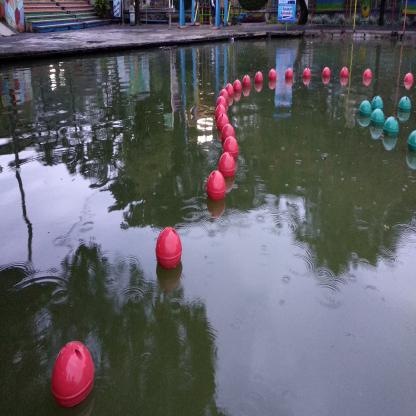green_buoy: (370, 103, 384, 136), (385, 116, 399, 140), (397, 95, 412, 117), (358, 101, 370, 124), (408, 126, 416, 156), (372, 96, 384, 110)
red_buoy: (51, 342, 95, 406), (156, 227, 182, 269), (206, 170, 225, 199), (219, 149, 234, 181), (224, 135, 238, 162), (223, 125, 234, 145), (217, 114, 228, 133), (216, 104, 226, 120), (217, 96, 227, 110), (220, 89, 229, 104), (404, 72, 414, 84), (255, 72, 263, 86), (243, 74, 251, 88), (226, 84, 234, 98), (322, 66, 331, 78), (286, 67, 294, 80), (269, 68, 276, 82), (340, 67, 348, 79), (303, 68, 311, 80), (364, 69, 372, 81), (234, 80, 242, 92)
